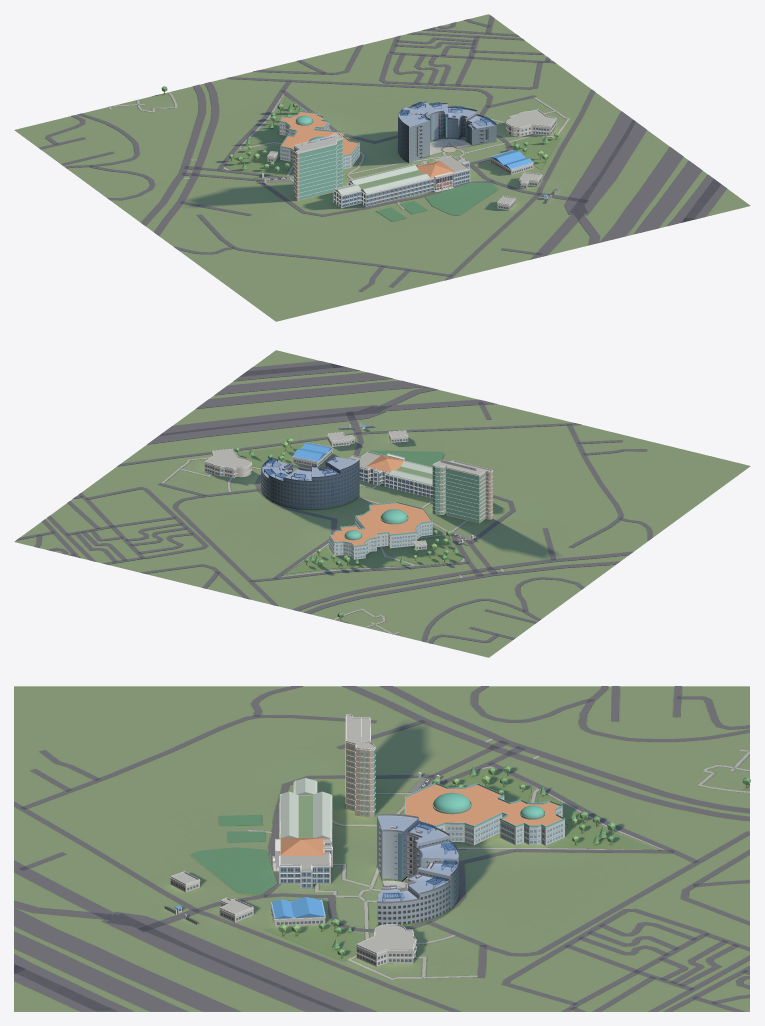
Rendered from uit_campus.glb.
The picture shows the model from 3 angles, top to bottom: view 1: azimuth 30°, elevation 25°; view 2: azimuth 150°, elevation 25°; view 3: azimuth 270°, elevation 25°; orthographic projection. The views are drawn at different scales.
Visible parts, largest first — view 1: GND_Base, PATH_Road, BLD_B, GND_Green, DET_E_glass, GND_Pitch, BLD_A, DET_C_trim, BLD_C, PATH_Footway, DET_C_roof_c_roof, BLD_CanTin (+4 smaller); view 2: GND_Base, PATH_Road, BLD_B, GND_Green, BLD_A, DET_E_glass, BLD_E, DET_B_win_glass, PATH_Footway, DET_E_trim, BLD_CanTin, BLD_C (+6 smaller); view 3: GND_Base, PATH_Road, BLD_B, BLD_A, GND_Green, GND_Pitch, PATH_Footway, BLD_E, DET_C_roof_c_roof, BLD_CanTin, BLD_C, DET_A_trim (+11 smaller).
Part boxes in pixels (x1,y1,x2,y2): GND_Base: (14,14,750,321); PATH_Road: (39,15,726,291); BLD_B: (398,102,496,162); GND_Green: (154,93,559,215); DET_E_glass: (294,139,342,199); GND_Pitch: (376,182,497,221); BLD_A: (279,112,359,169); DET_C_trim: (333,155,470,208); BLD_C: (334,156,469,207); PATH_Footway: (108,92,569,209); DET_C_roof_c_roof: (334,165,429,195); BLD_CanTin: (506,110,556,136); GND_Base: (14,350,750,657); PATH_Road: (16,361,652,643); BLD_B: (261,456,359,509); GND_Green: (236,445,462,623); BLD_A: (329,503,432,559); DET_E_glass: (432,466,487,522); BLD_E: (432,461,492,523); DET_B_win_glass: (261,463,359,509); PATH_Footway: (161,457,504,634); DET_E_trim: (432,460,493,519); BLD_CanTin: (204,450,251,478); BLD_C: (352,452,432,498); GND_Base: (14,686,749,1011); PATH_Road: (14,686,749,1011); BLD_B: (377,815,458,924); BLD_A: (405,784,564,845); GND_Green: (191,769,749,961); GND_Pitch: (191,815,277,894); PATH_Footway: (247,738,749,979); BLD_E: (346,715,375,816); DET_C_roof_c_roof: (279,778,331,838); BLD_CanTin: (356,925,415,966); BLD_C: (280,795,331,888); DET_A_trim: (404,782,565,840).
Bounding box in the file's own units: 450 × 46.6 × 431.
Materials: 56 (23 with a texture image).
